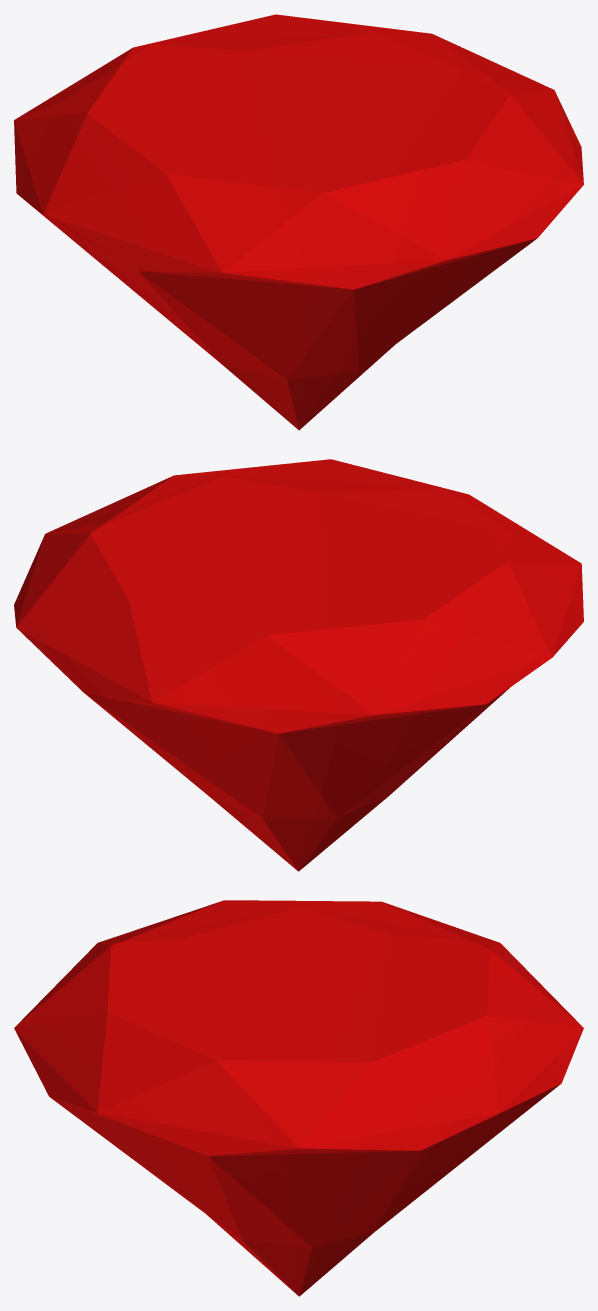
File: low_poly_ruby-transformed.glb
3 renders of one model, top to bottom at view 1: azimuth 30°, elevation 25°; view 2: azimuth 150°, elevation 25°; view 3: azimuth 270°, elevation 25°, orthographic. The views are drawn at different scales.
Parts seen in each view (by area): view 1: Cylinder_0; view 2: Cylinder_0; view 3: Cylinder_0.
Part boxes in pixels (left/top/right/bottom): Cylinder_0: left=14, top=14, right=583, bottom=430; Cylinder_0: left=14, top=459, right=583, bottom=871; Cylinder_0: left=14, top=900, right=583, bottom=1296.
Size of the model in its own units: 2 by 1.22 by 2.
